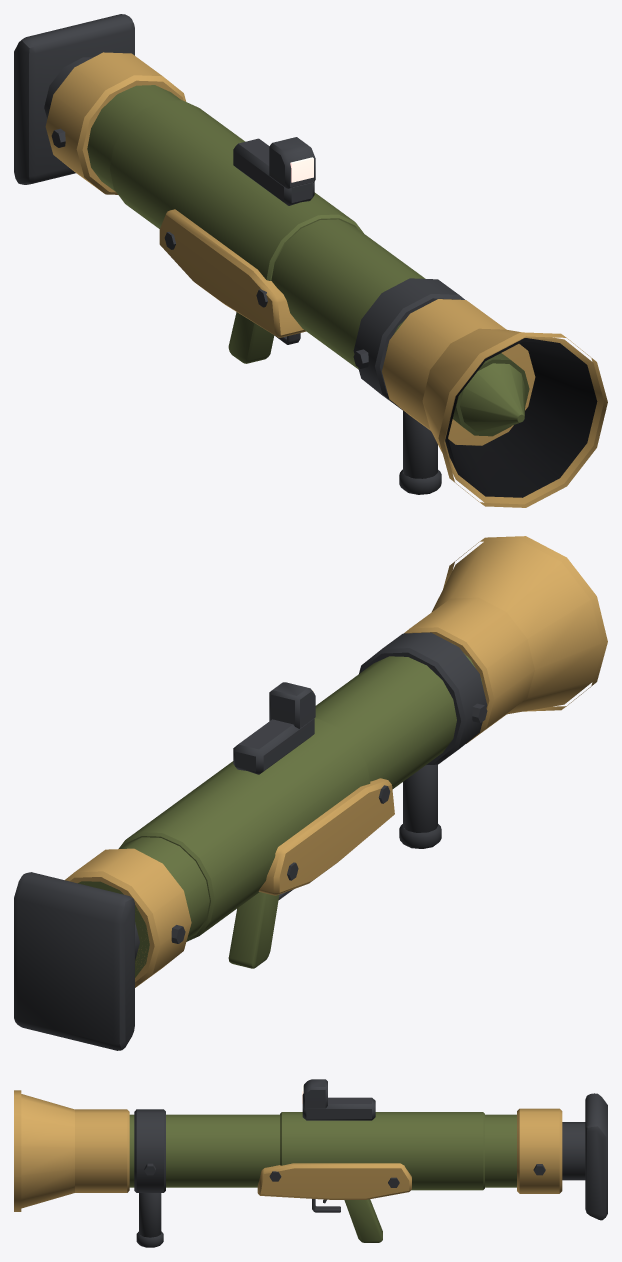
File: rocket_launcher.glb
3 views of the same model, one above another, from view 1: azimuth 30°, elevation 25°; view 2: azimuth 150°, elevation 25°; view 3: azimuth 270°, elevation 25° (orthographic). The views are drawn at different scales.
Parts seen in each view (by area): view 1: launcher_tube, launcher_metal, launcher_trim, launcher_rocket; view 2: launcher_tube, launcher_trim, launcher_metal; view 3: launcher_tube, launcher_trim, launcher_metal.
Part boxes in pixels (x1,y1,x2,y2): launcher_tube: [87, 85, 425, 369]; launcher_metal: [14, 14, 597, 497]; launcher_trim: [45, 52, 607, 507]; launcher_rocket: [452, 353, 529, 436]; launcher_tube: [78, 643, 482, 977]; launcher_trim: [65, 536, 607, 987]; launcher_metal: [14, 632, 487, 1050]; launcher_tube: [129, 1112, 516, 1242]; launcher_trim: [14, 1090, 562, 1211]; launcher_metal: [134, 1079, 607, 1247].
Size of the model in its own units: 0.268 by 0.3875 by 1.3.
